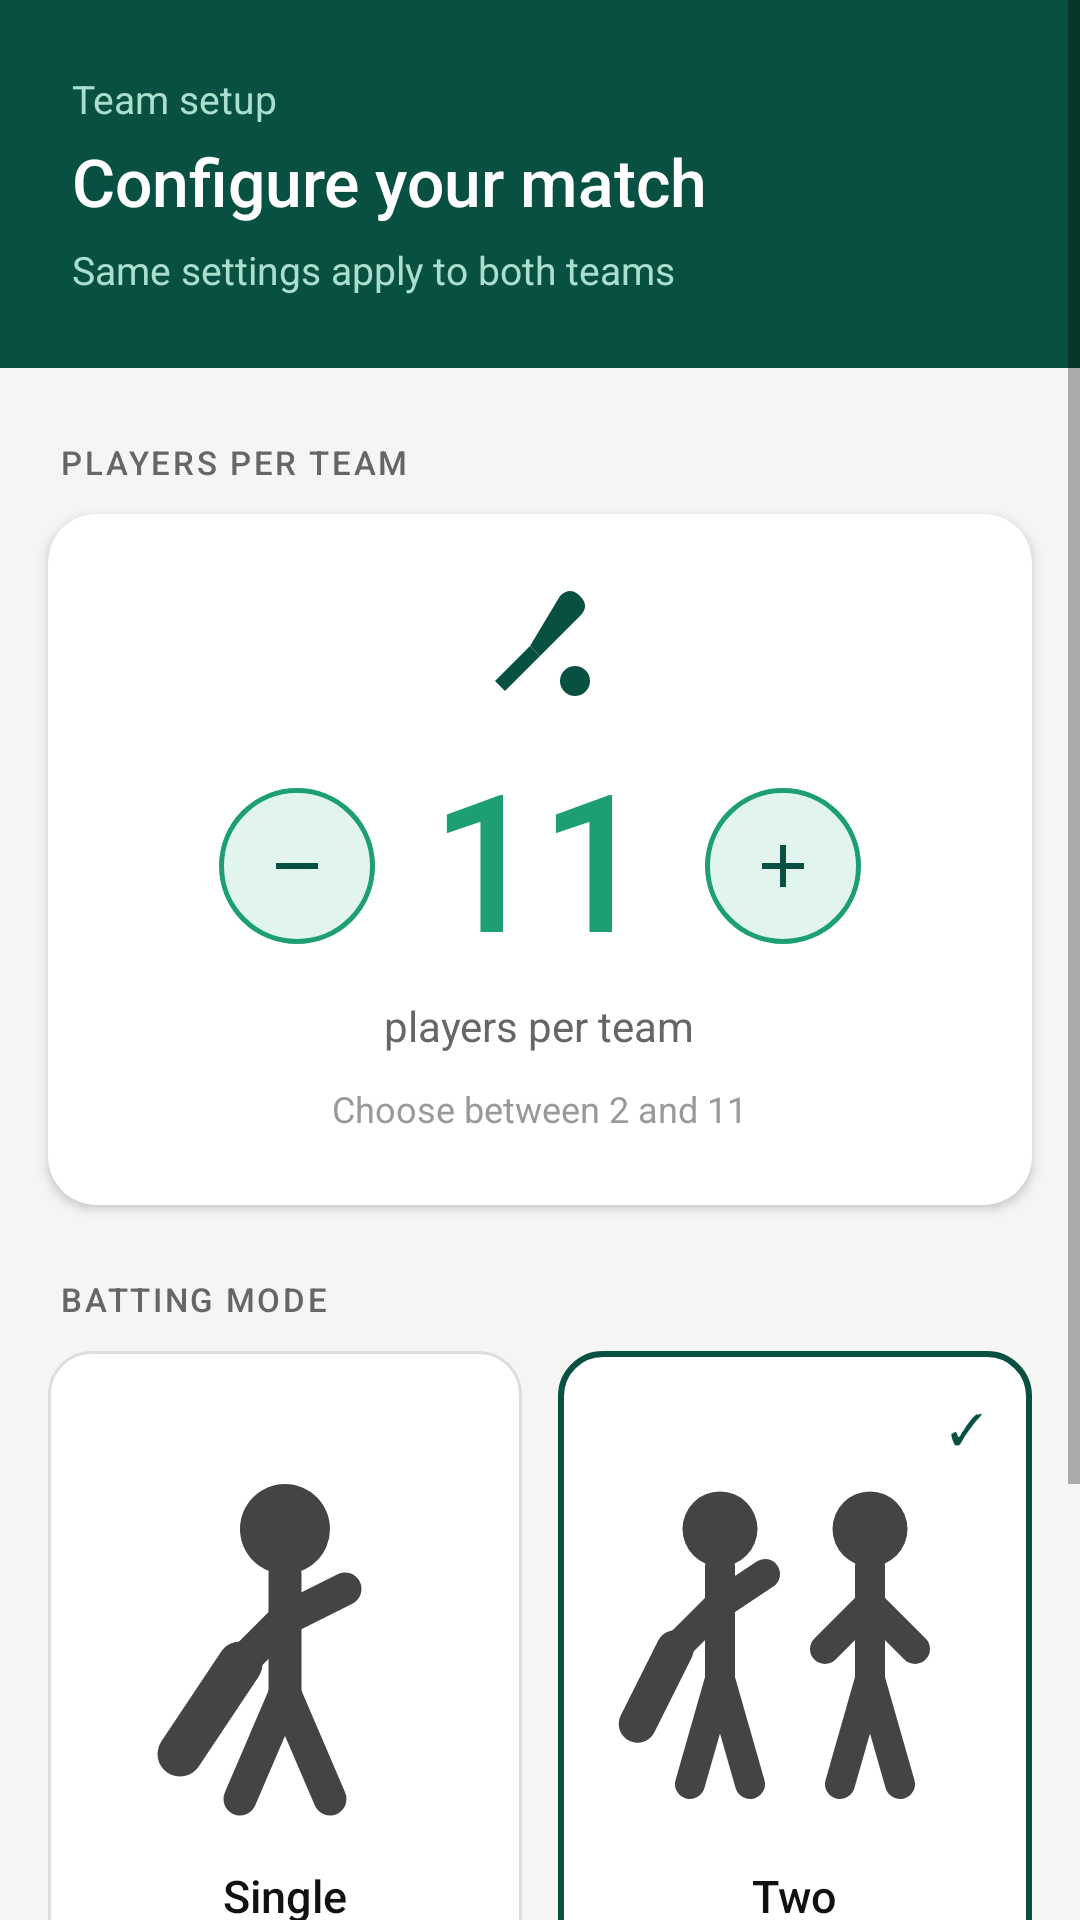

Icons on this 1080px x 1920px Android screen, each with the point to tap as point (x, y):
Decrease player count: point (297, 866)
Increase player count: point (783, 866)
